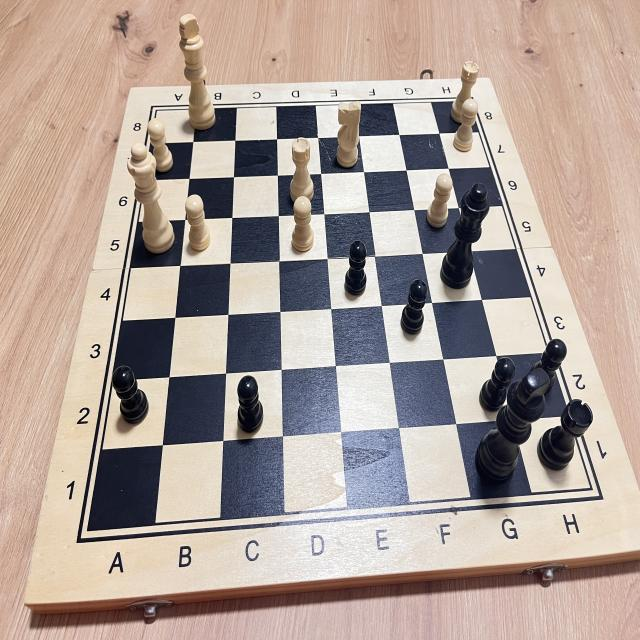black-king: (470, 357, 554, 500)
black-pawn: (522, 334, 572, 407), (110, 359, 152, 430), (475, 353, 519, 417), (232, 367, 270, 437), (398, 274, 429, 342), (342, 238, 374, 302)
black-queen: (437, 176, 496, 300)
black-rook: (532, 392, 596, 479)
white-king: (172, 12, 222, 144)
white-knight: (332, 98, 368, 175)
white-pawn: (181, 185, 215, 261), (448, 95, 486, 159), (422, 168, 456, 236), (142, 112, 178, 176), (287, 190, 320, 256)
white-queen: (124, 140, 179, 263)
white-rook: (444, 53, 485, 125), (285, 133, 320, 209)
